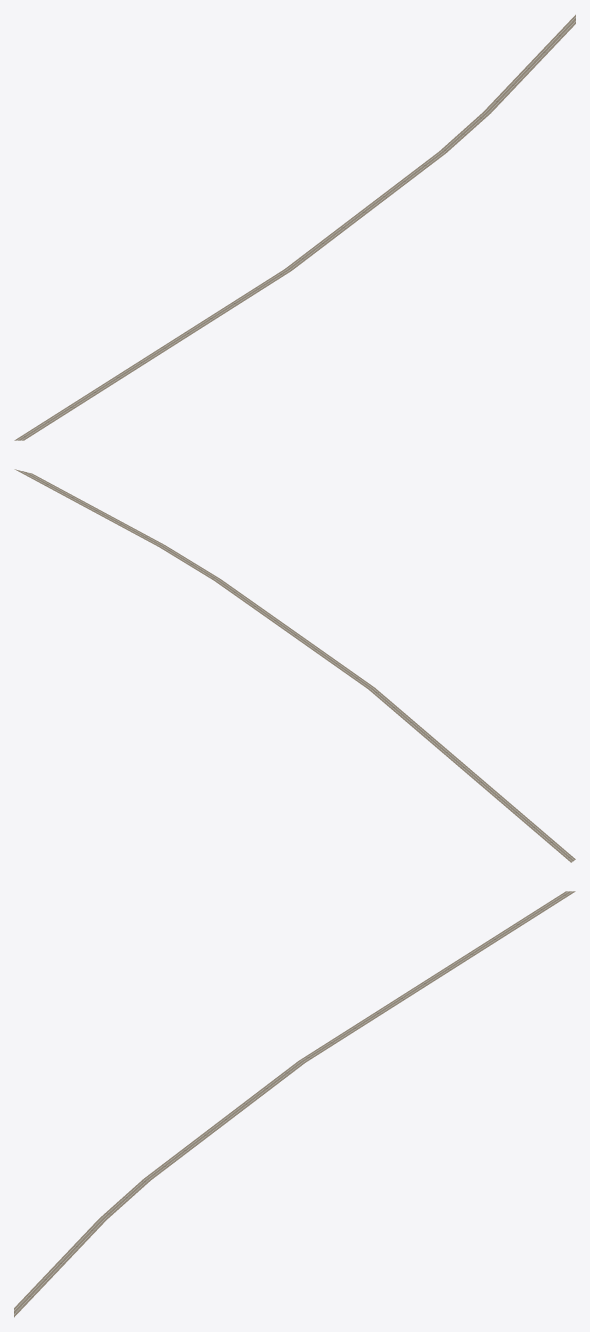
3 renders of one model, top to bottom at view 1: azimuth 90°, elevation 25°; view 2: azimuth 150°, elevation 25°; view 3: azimuth 270°, elevation 25°, orthographic. The views are drawn at different scales.
Parts seen in each view (by area): view 1: rail; view 2: rail; view 3: rail.
Part boxes in pixels (<box>): rail: <box>14,14,575,440</box>; rail: <box>14,469,575,862</box>; rail: <box>14,891,575,1317</box>.
Size of the model in its own units: 432 by 0.04 by 241.
